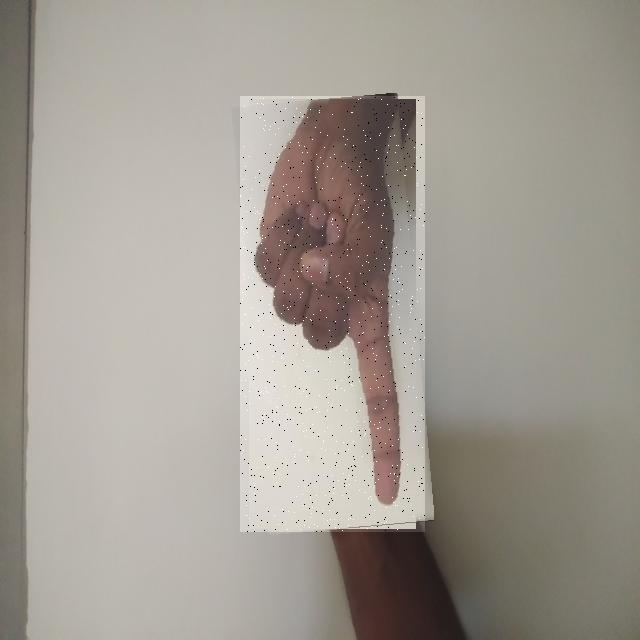IloveYou: (240, 96, 425, 532)
